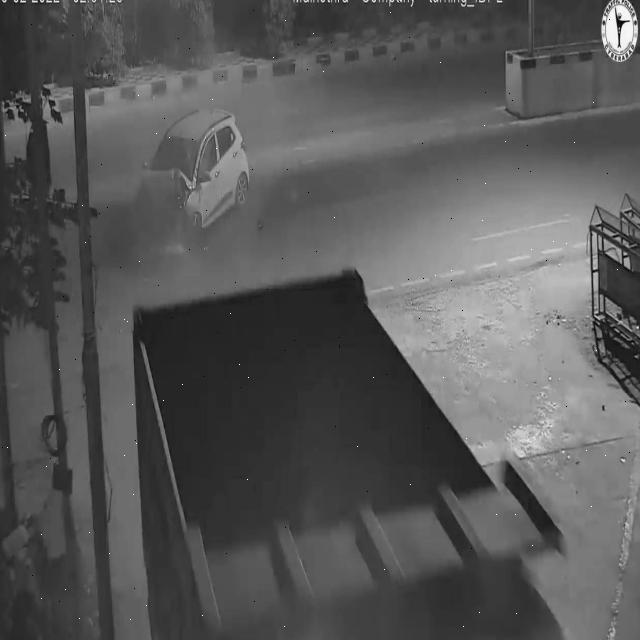accident: (126, 94, 257, 261)
